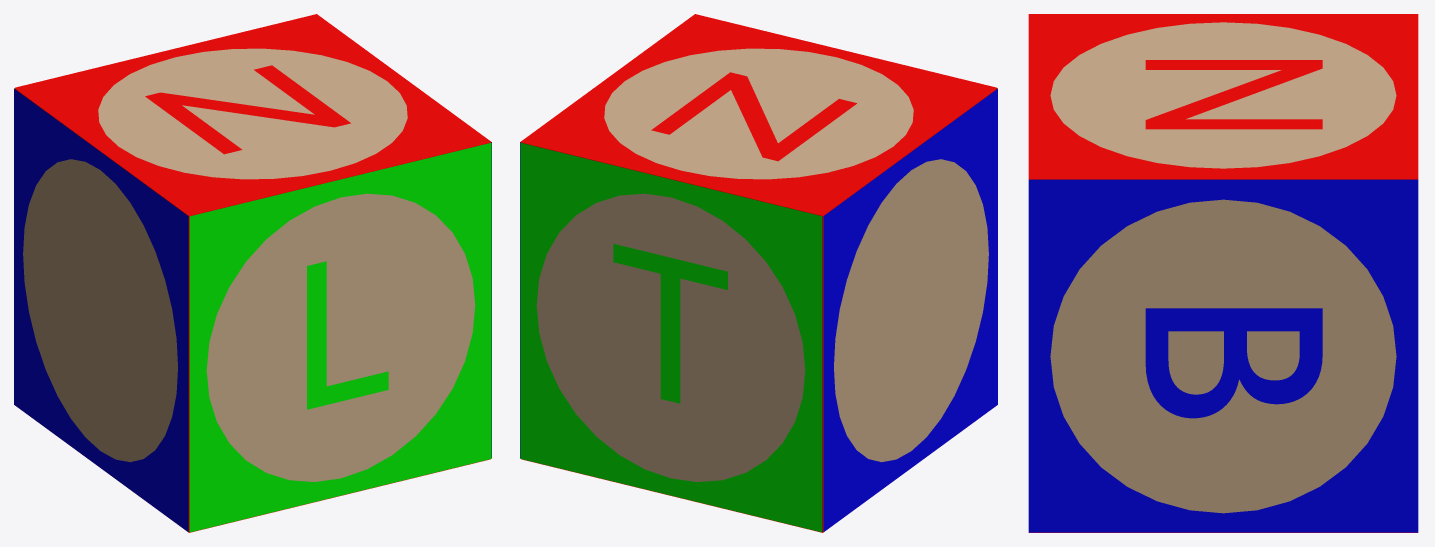
3 renders of one model, left to right at view 1: azimuth 30°, elevation 25°; view 2: azimuth 150°, elevation 25°; view 3: azimuth 270°, elevation 25°, orthographic. The views are drawn at different scales.
Visible parts, largest first — view 1: cube; view 2: cube; view 3: cube.
Part boxes in pixels (x1=…): cube: x1=14, y1=14, x2=491, y2=532; cube: x1=520, y1=14, x2=997, y2=532; cube: x1=1028, y1=14, x2=1418, y2=532.
Bounding box in the file's own units: 0.0455 × 0.0456 × 0.0456.
